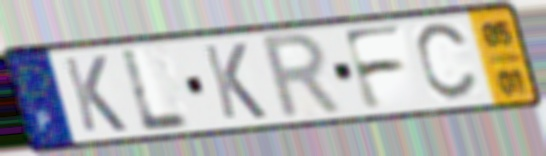C: (413, 20, 482, 105)
F: (338, 22, 409, 114)
K: (59, 53, 131, 135), (199, 40, 271, 122)
L: (119, 46, 195, 135)
R: (258, 29, 348, 124)
